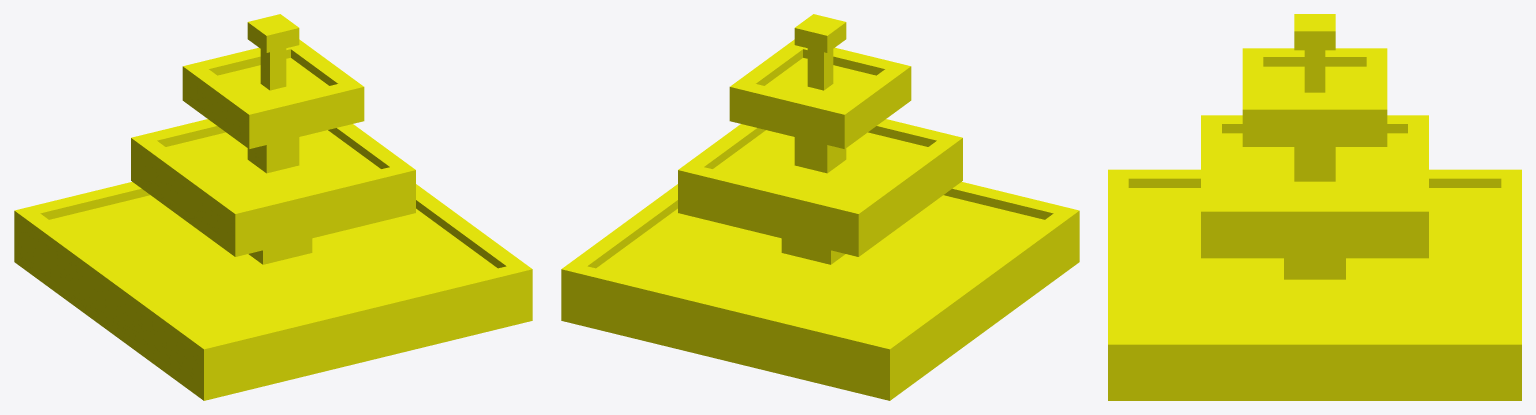
The model's file is voxel-palace-fountain.glb.
3 views of the same model, side by side, from view 1: azimuth 30°, elevation 25°; view 2: azimuth 150°, elevation 25°; view 3: azimuth 270°, elevation 25° (orthographic). The views are drawn at different scales.
Visible parts, largest first — view 1: ObjObject.012; view 2: ObjObject.012; view 3: ObjObject.012.
Boxes of the visible parts, x1,y1,x2,y2 form: ObjObject.012: [14, 14, 532, 400]; ObjObject.012: [561, 14, 1079, 400]; ObjObject.012: [1108, 14, 1521, 400].
Bounding box in the file's own units: 4 × 3.1 × 4.
